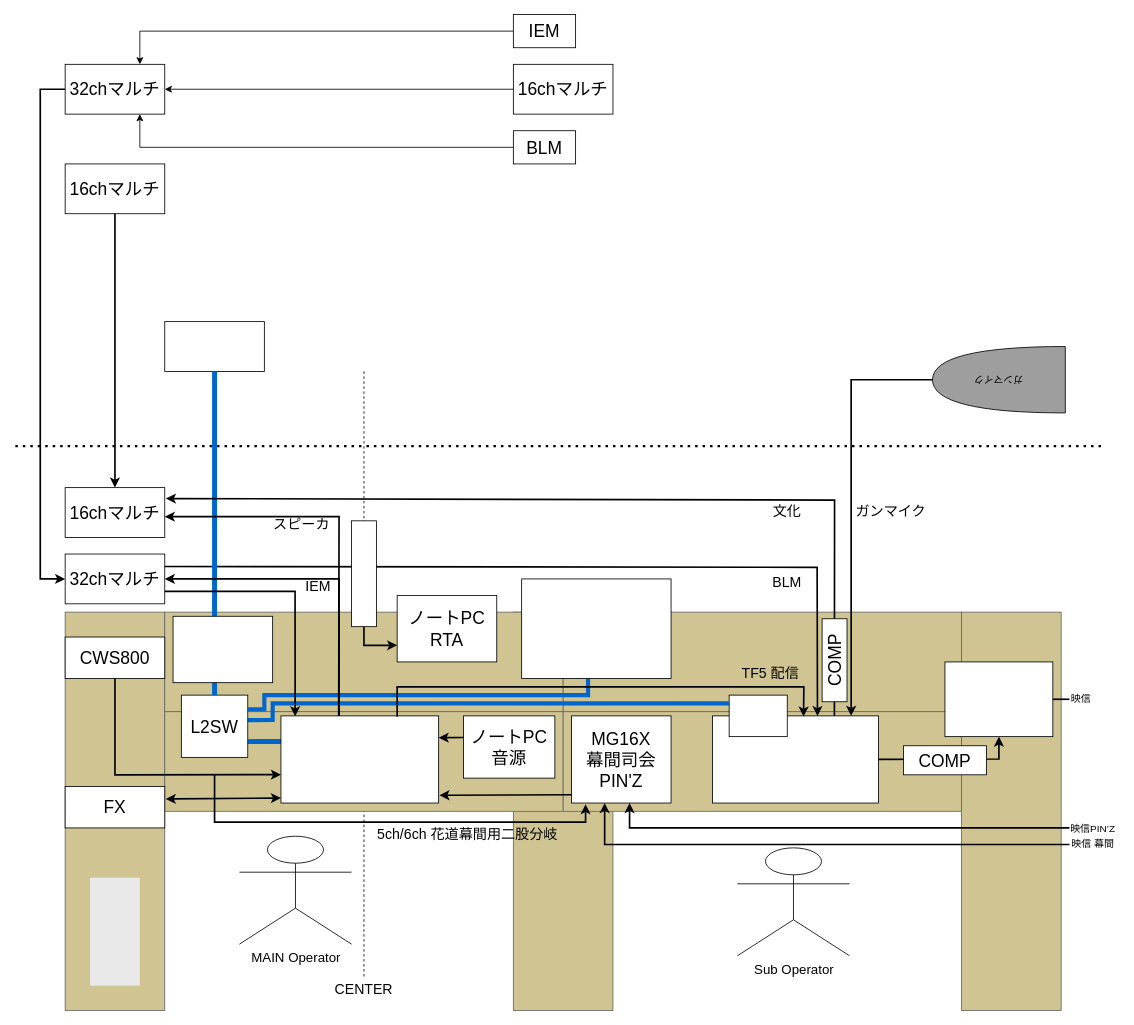
Some shapes in this 1134 by 1025 pixel diagram are drawn without their labels. Each missing label, with the box of its shape:
IEM H/S: (90, 877, 139, 985)
iPad: (728, 694, 787, 737)
LiveTrak L-8 映信: (944, 661, 1053, 737)
MGP24X 配信: (712, 715, 879, 803)
TF5 メイン: (280, 715, 439, 803)
Wi-Fi Router: (164, 321, 264, 371)
ノートPC TF Editor & Ch割: (521, 578, 671, 679)
モニター BTO用: (172, 615, 273, 683)
測 定 マ イ ク: (351, 520, 376, 627)
